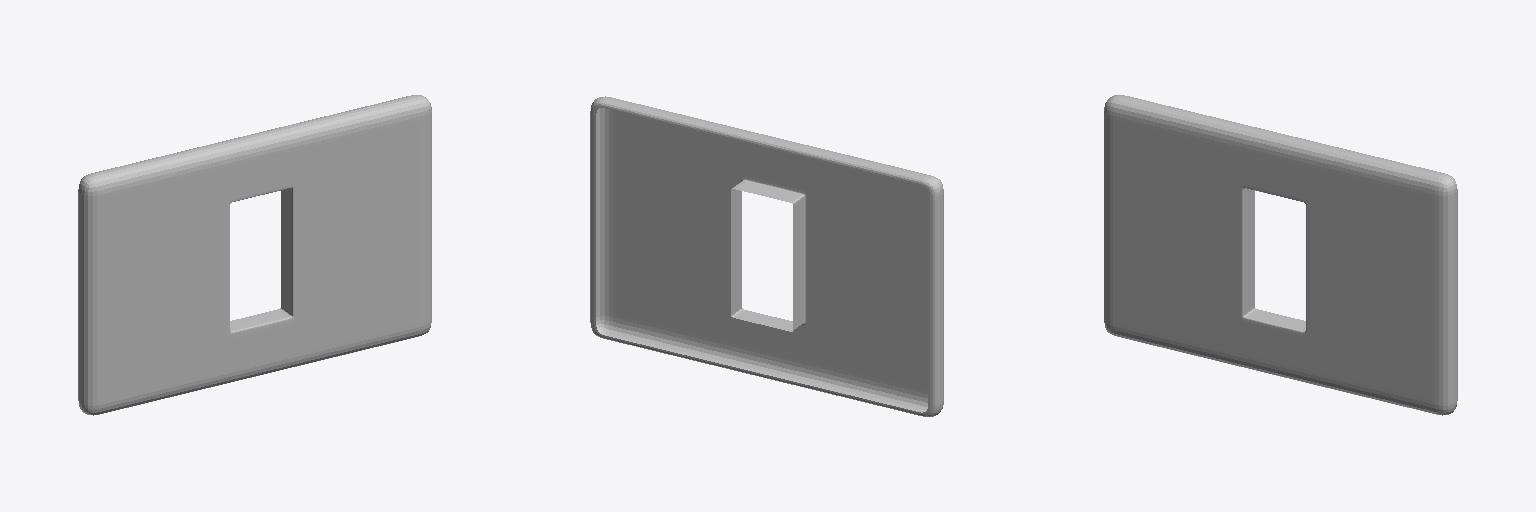
The model's file is light-switch-container.obj.
3 views of the same model, side by side, from view 1: azimuth 30°, elevation 25°; view 2: azimuth 150°, elevation 25°; view 3: azimuth 330°, elevation 25° (orthographic).
Parts seen in each view (by area): view 1: socket_ext1; view 2: socket_ext1; view 3: socket_ext1.
Part boxes in pixels (left/top/right/bottom): socket_ext1: left=78, top=95, right=431, bottom=415; socket_ext1: left=590, top=96, right=943, bottom=416; socket_ext1: left=1104, top=95, right=1457, bottom=415.
Bounding box in the file's own units: 0.269 × 0.1757 × 0.0158.